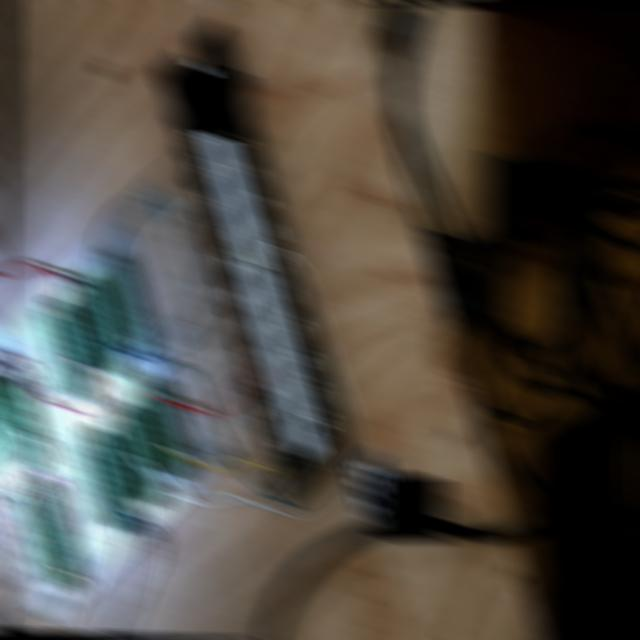Phillips_Block: (145, 16, 358, 503)
Terminal_1: (16, 482, 79, 590), (0, 368, 43, 474)
Terminal_2: (126, 376, 188, 479), (71, 431, 133, 533), (99, 403, 160, 506), (60, 274, 122, 375), (34, 299, 96, 400)
